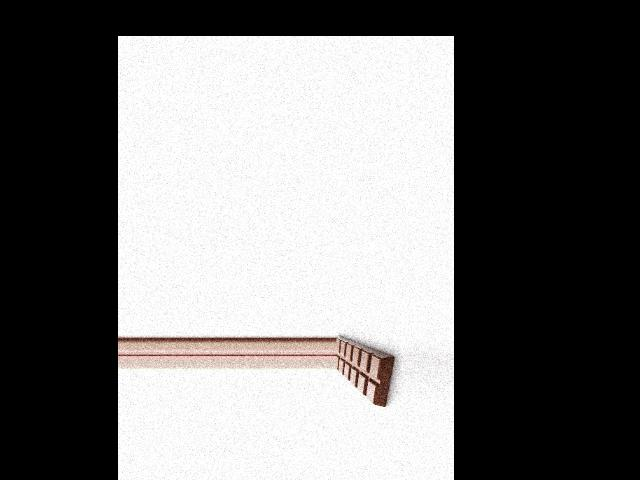chocolate: (336, 330, 396, 407)
